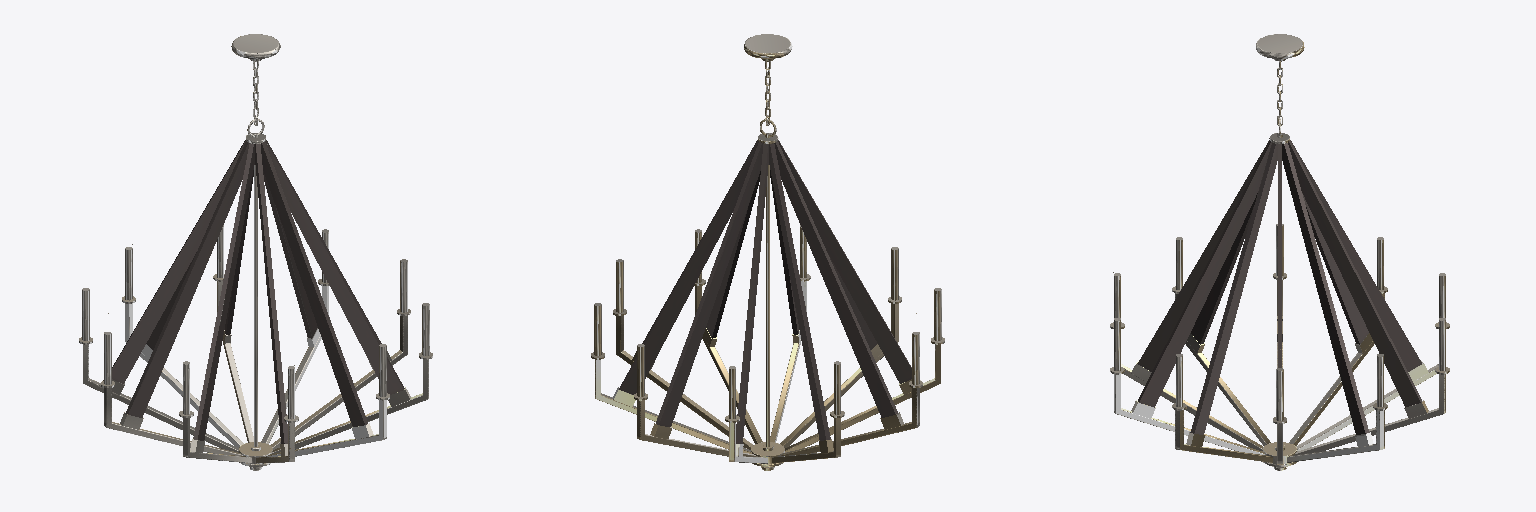
The picture shows the model from 3 angles: view 1: azimuth 30°, elevation 25°; view 2: azimuth 150°, elevation 25°; view 3: azimuth 270°, elevation 25°; orthographic projection.
Parts seen in each view (by area): view 1: solid_001, solid_003; view 2: solid_001, solid_003; view 3: solid_001, solid_003.
Boxes of the visible parts, x1,y1,x2,y2 form: solid_001: [112, 140, 404, 443]; solid_003: [79, 34, 432, 470]; solid_001: [619, 140, 911, 443]; solid_003: [591, 34, 944, 470]; solid_001: [1138, 140, 1421, 434]; solid_003: [1110, 34, 1449, 470].
Bounding box in the file's own units: 1.1 × 1.45 × 1.05.
1 materials, 1 textured.